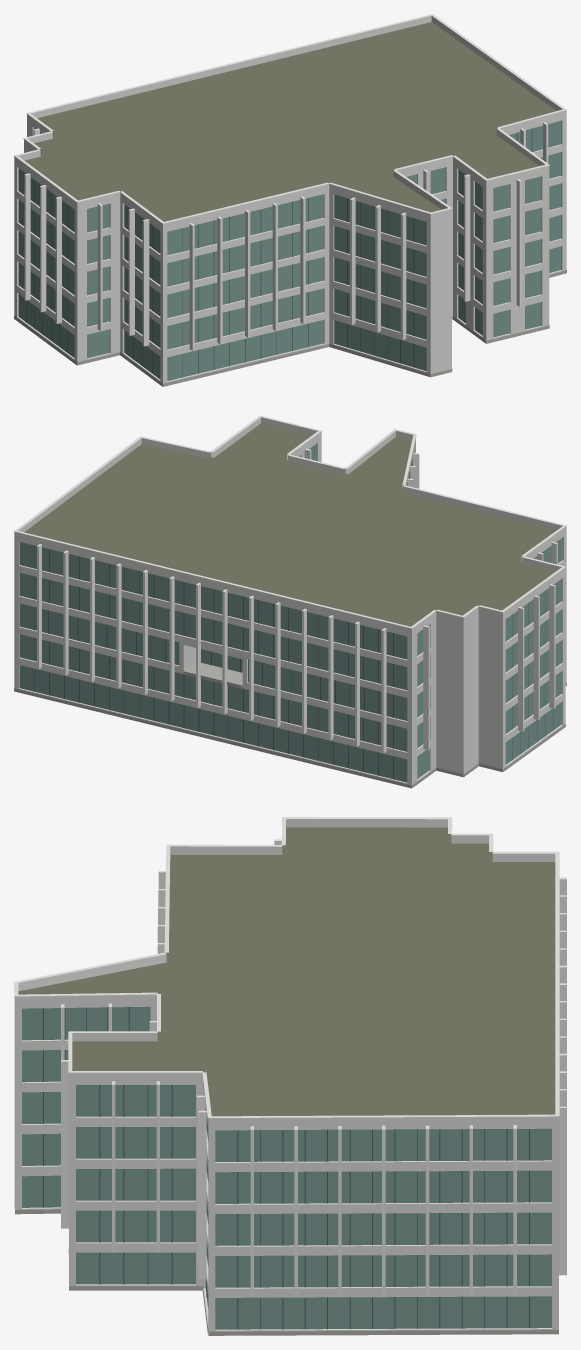
3 views of the same model, one above another, from view 1: azimuth 30°, elevation 25°; view 2: azimuth 150°, elevation 25°; view 3: azimuth 270°, elevation 25° (orthographic). The views are drawn at different scales.
Visible parts, largest first — view 1: newEng__roof, newEng__glass, newEng__wall, newEng__trim, newEng__parapet, newEng__frame, newEng__base; view 2: newEng__roof, newEng__glass, newEng__wall, newEng__trim, newEng__parapet, newEng__frame, newEng__base; view 3: newEng__roof, newEng__glass, newEng__wall, newEng__trim, newEng__parapet, newEng__frame, newEng__base.
Part boxes in pixels (left/top/right/bottom): newEng__roof: left=25, top=22, right=556, bottom=221; newEng__glass: left=18, top=120, right=561, bottom=380; newEng__wall: left=14, top=116, right=566, bottom=386; newEng__trim: left=14, top=14, right=566, bottom=351; newEng__parapet: left=14, top=15, right=566, bottom=229; newEng__frame: left=26, top=129, right=532, bottom=377; newEng__base: left=14, top=270, right=566, bottom=386; newEng__roof: left=24, top=423, right=556, bottom=626; newEng__glass: left=19, top=444, right=562, bottom=782; newEng__wall: left=14, top=437, right=566, bottom=787; newEng__trim: left=14, top=415, right=566, bottom=753; newEng__parapet: left=14, top=417, right=566, bottom=634; newEng__frame: left=34, top=472, right=553, bottom=779; newEng__base: left=14, top=662, right=566, bottom=788; newEng__roof: left=18, top=827, right=555, bottom=1335; newEng__glass: left=22, top=1006, right=551, bottom=1329; newEng__wall: left=14, top=996, right=558, bottom=1334; newEng__trim: left=14, top=817, right=566, bottom=1296; newEng__parapet: left=15, top=819, right=558, bottom=1125; newEng__frame: left=43, top=1007, right=529, bottom=1329; newEng__base: left=14, top=1205, right=558, bottom=1335.
Bounding box in the file's own units: 62.83 × 20.82 × 47.84.
